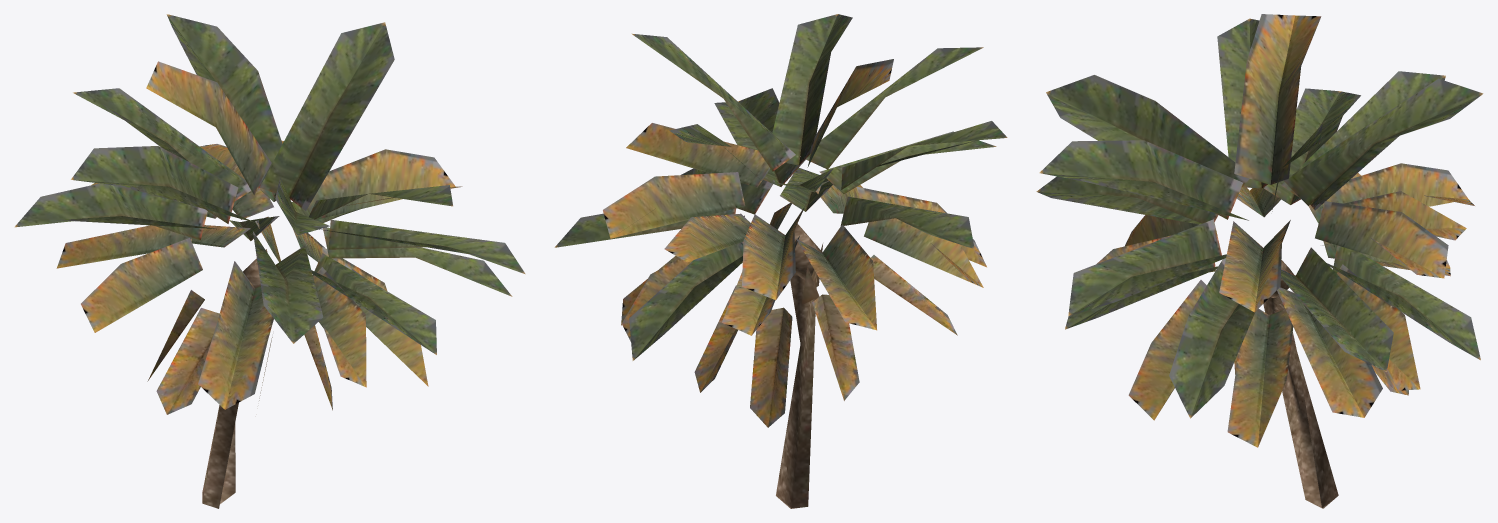
File: arid-palm-short-b-map.glb
3 renders of one model, left to right at view 1: azimuth 30°, elevation 25°; view 2: azimuth 150°, elevation 25°; view 3: azimuth 270°, elevation 25°, orthographic. The views are drawn at different scales.
Visible parts, largest first — view 1: palm_tree_short_b_LOD0; view 2: palm_tree_short_b_LOD0; view 3: palm_tree_short_b_LOD0.
Part boxes in pixels (x1,y1,x2,y2): palm_tree_short_b_LOD0: (14,14,525,508); palm_tree_short_b_LOD0: (554,14,1007,508); palm_tree_short_b_LOD0: (1036,14,1483,508).
Size of the model in its own units: 6.53 by 6.76 by 5.93.
Materials: 1 (1 with a texture image).
